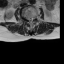CCS_normal: (29, 16, 31, 24)
LFS_normal: (33, 15, 35, 21)
LLS_normal: (31, 15, 33, 23)
RFS_severe_stenosis: (25, 15, 27, 21)
RLS_normal: (27, 15, 29, 22)
